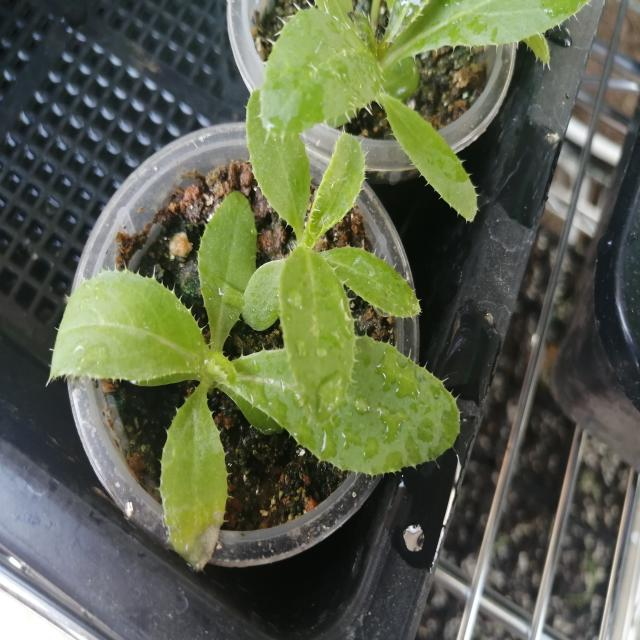field_thistle: (74, 132, 478, 556), (289, 3, 539, 218)
